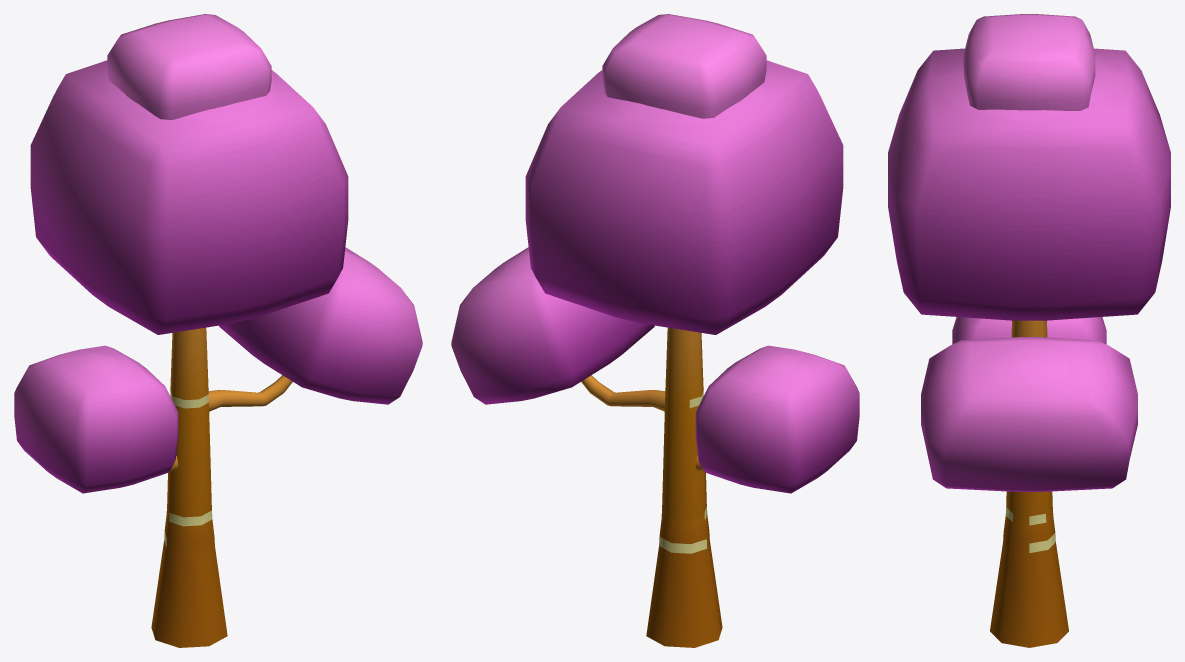
The model's file is pink-2.fbx.
3 renders of one model, left to right at view 1: azimuth 30°, elevation 25°; view 2: azimuth 150°, elevation 25°; view 3: azimuth 270°, elevation 25°, orthographic.
Visible parts, largest first — view 1: Cylinder.001; view 2: Cylinder.001; view 3: Cylinder.001.
Boxes of the visible parts, x1=… form: Cylinder.001: x1=14, y1=14, x2=422, y2=647; Cylinder.001: x1=451, y1=14, x2=859, y2=647; Cylinder.001: x1=888, y1=14, x2=1170, y2=647.
Size of the model in its own units: 122 by 203 by 86.55.
